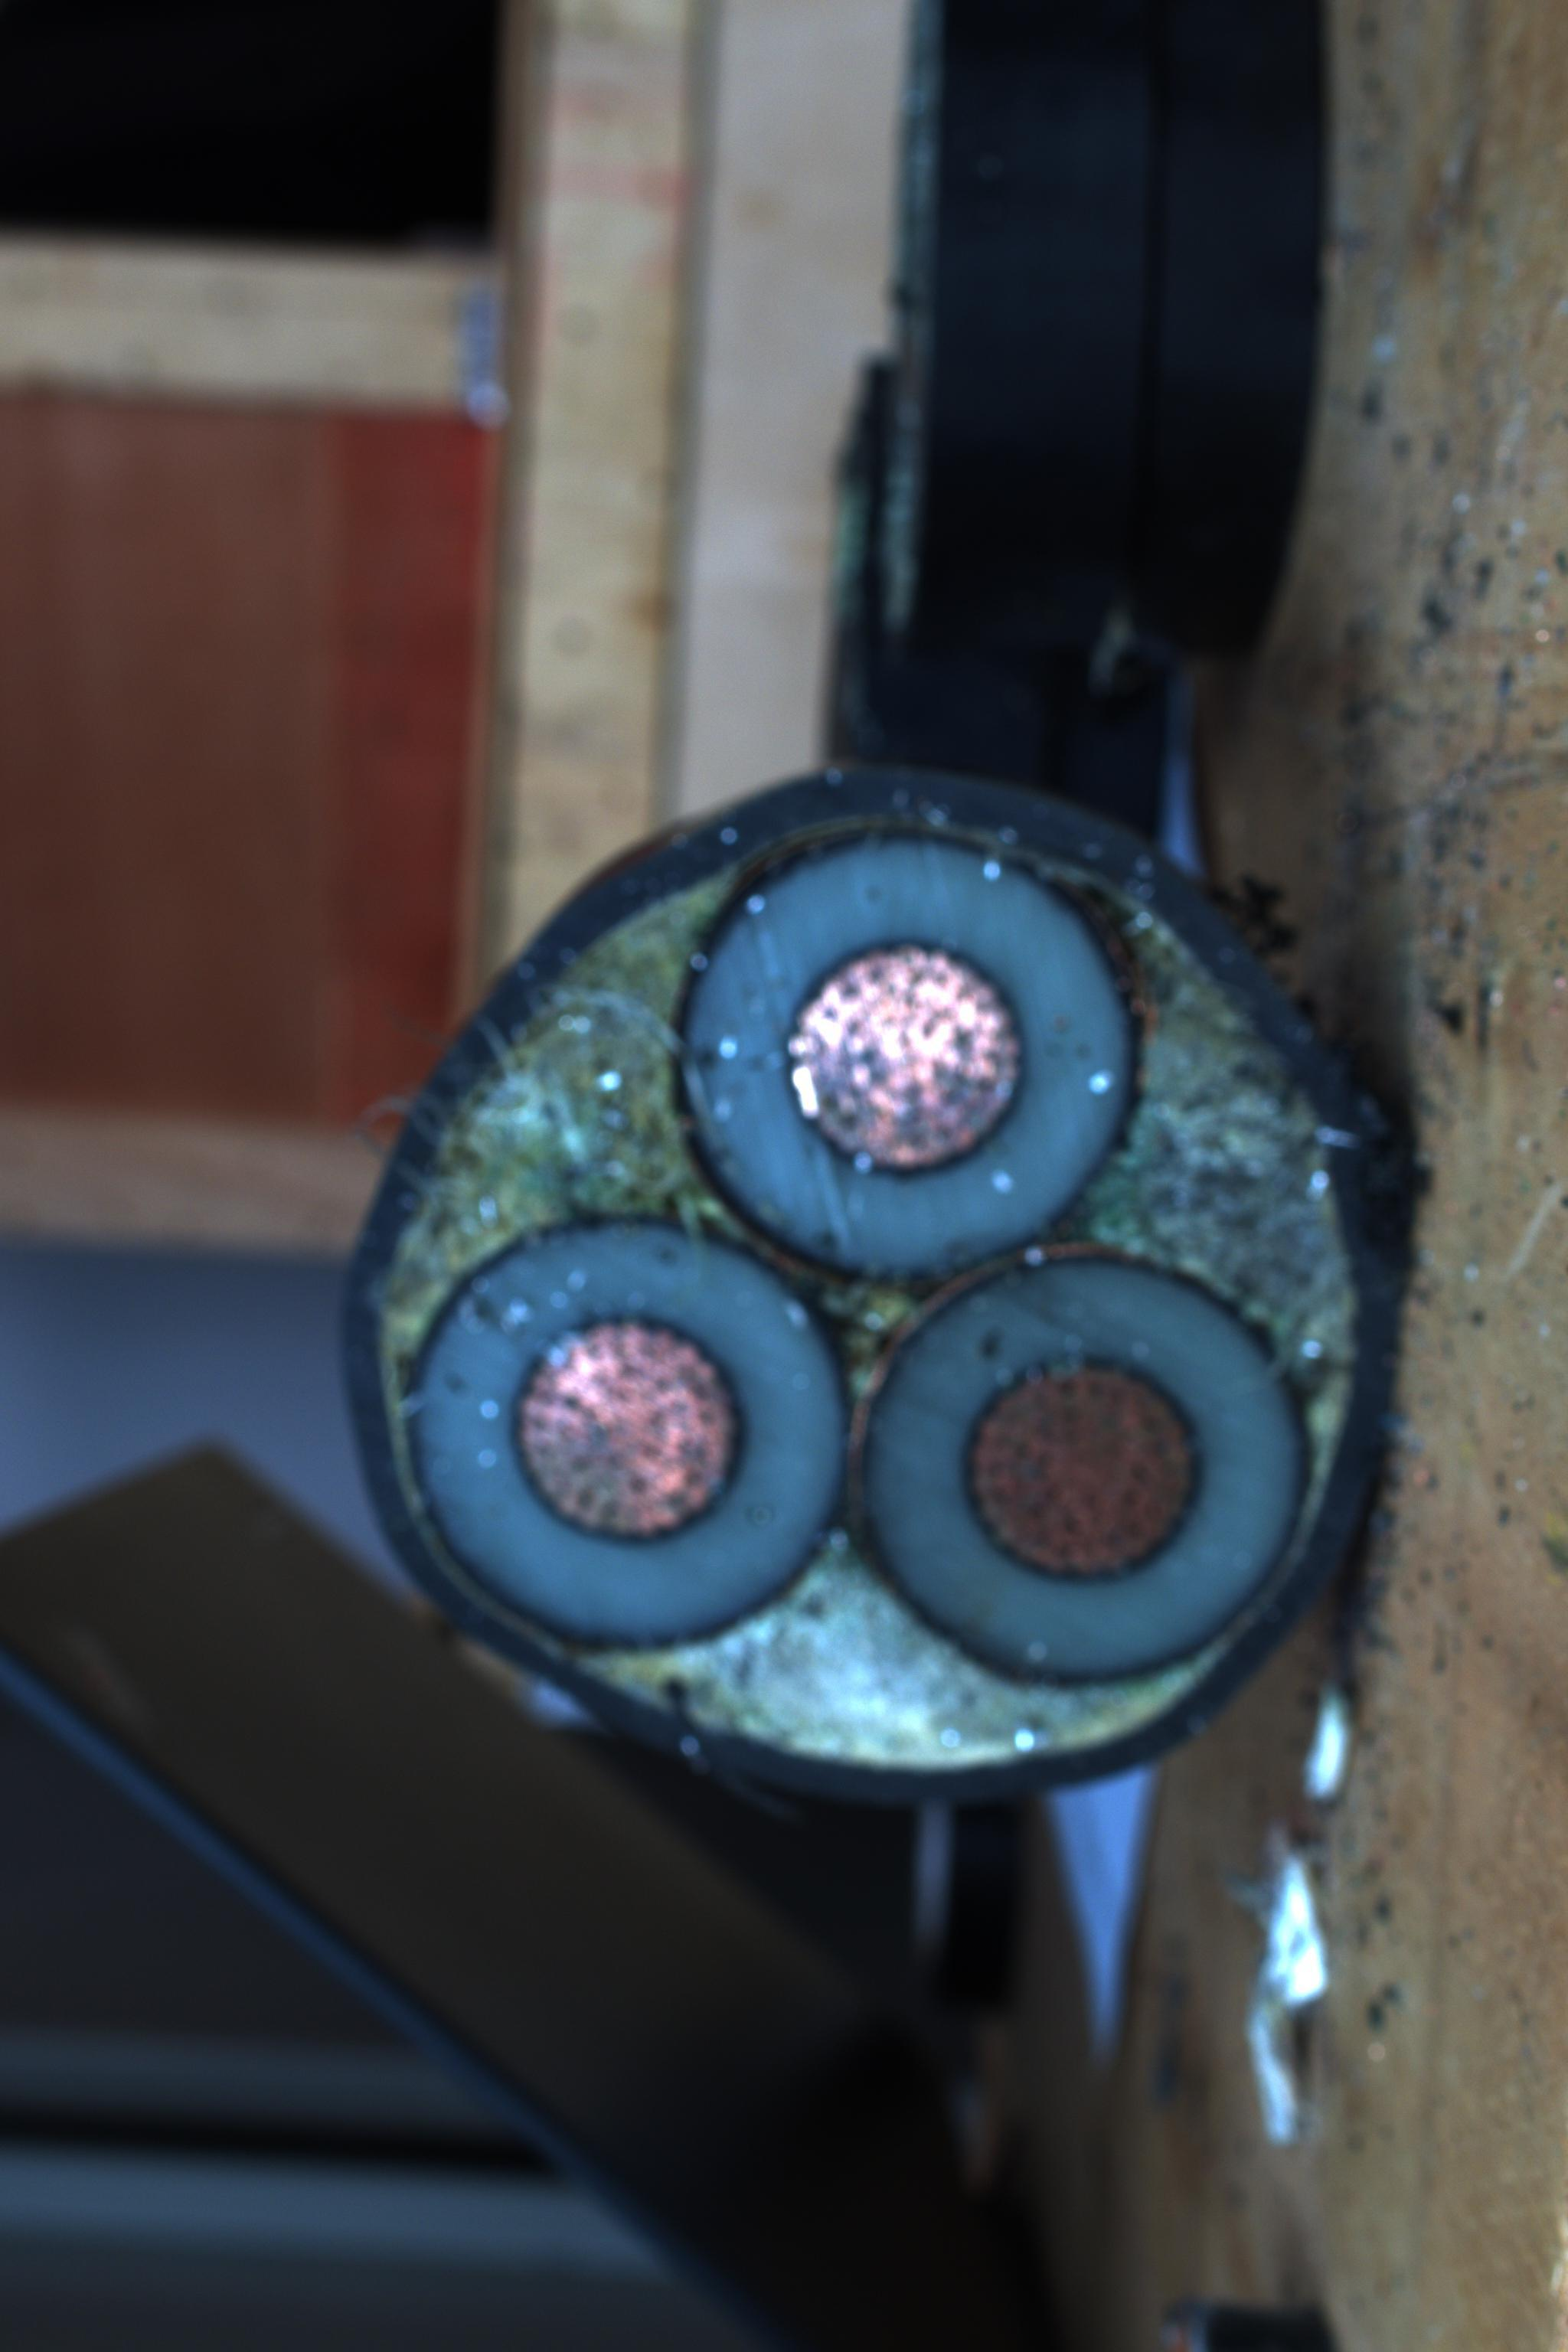ZA_YJV_26_35kV_3x400: (311, 716, 1438, 1808)
